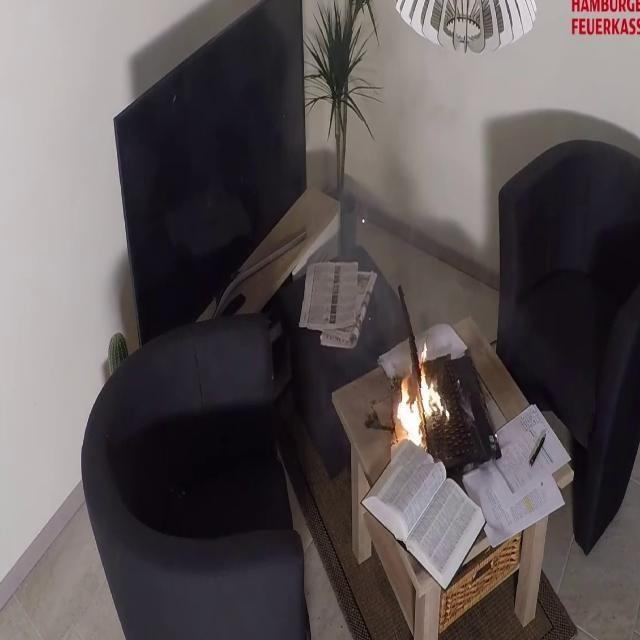fire: (372, 334, 456, 464)
